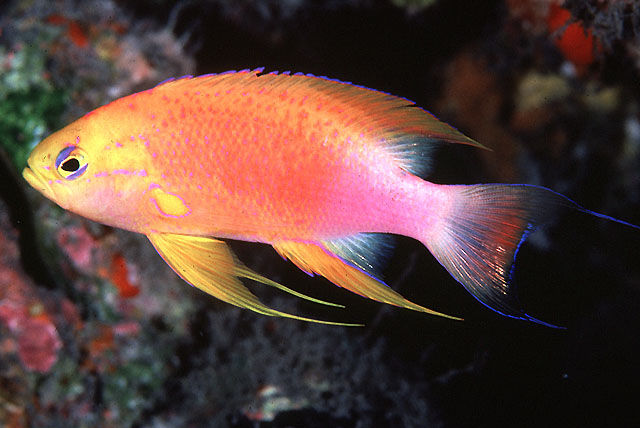fish: (23, 66, 635, 332)
